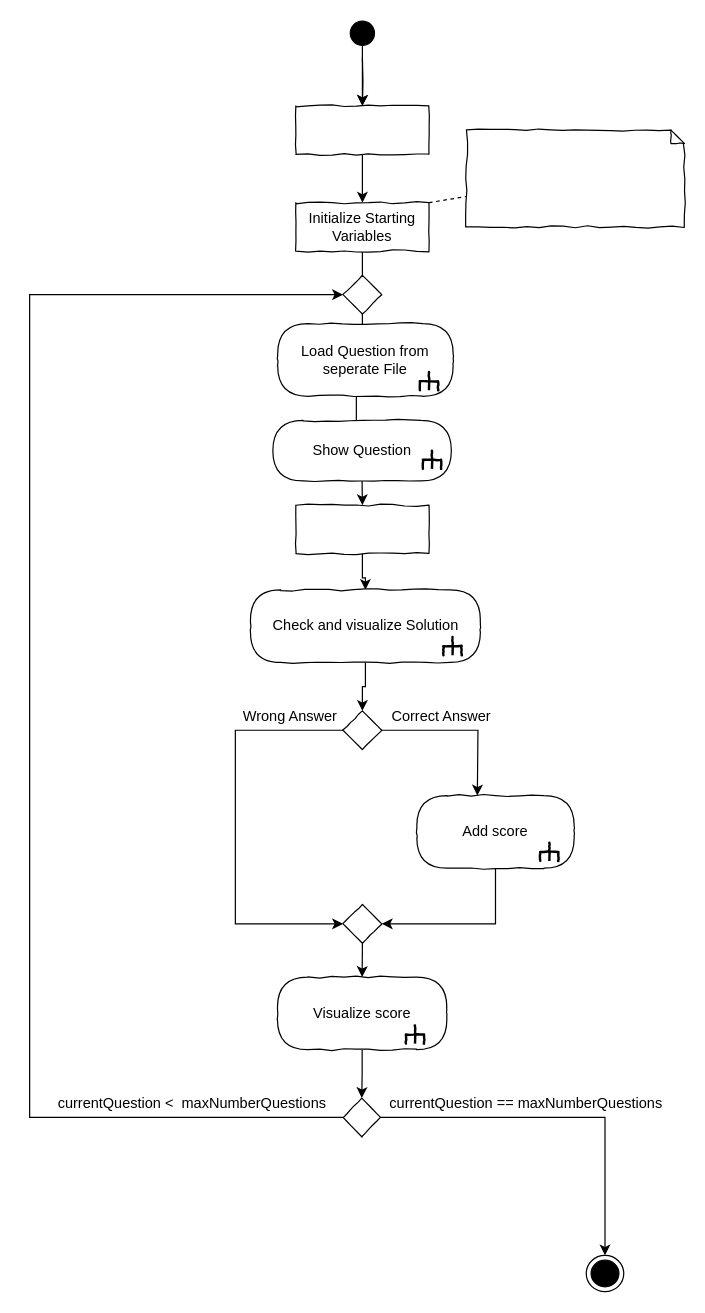
Image size: 705x1313. Some labels were removed from this diagram. Here are the shapes that lost their labels. From the top down, the centre of each, then its label:
pixel 362 129: Prompt for Number of Questions
pixel 574 178: hasWon: bool score: int currentQuestion: int maxNumberQuestions: int
pixel 362 529: User Input Answer
